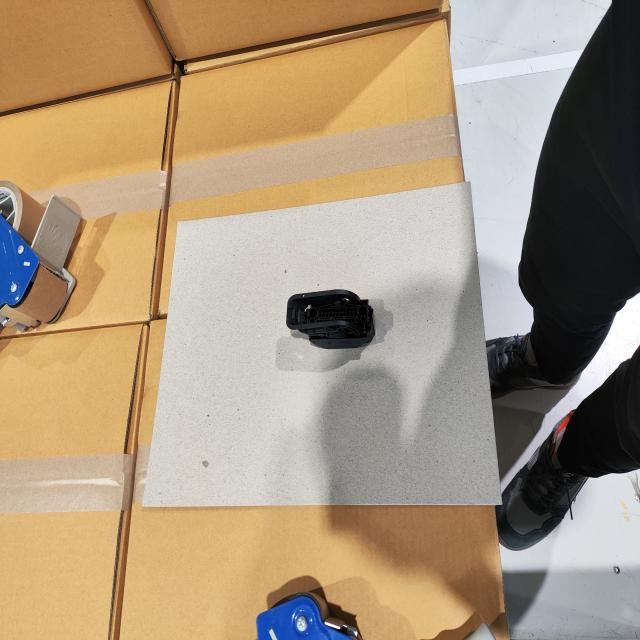P38: (286, 290, 375, 349)
